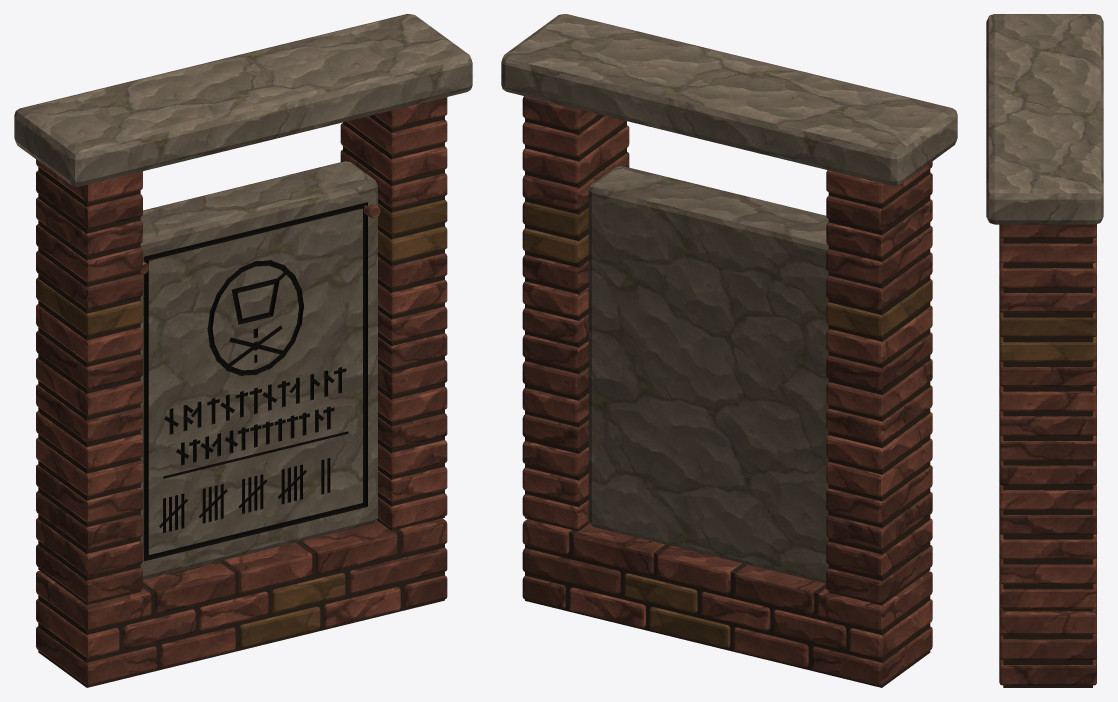
Rendered from cf_master_mark_stone.glb.
3 views of the same model, side by side, from view 1: azimuth 30°, elevation 25°; view 2: azimuth 150°, elevation 25°; view 3: azimuth 270°, elevation 25° (orthographic). The views are drawn at different scales.
Visible parts, largest first — view 1: model; view 2: model; view 3: model.
Part boxes in pixels (box(x1,y1,x2,y2)): model: box(14, 14, 472, 687); model: box(501, 14, 957, 687); model: box(986, 14, 1103, 687).
Bounding box in the file's own units: 1.32 × 1.71 × 0.36.
Materials: 11 (9 with a texture image).
